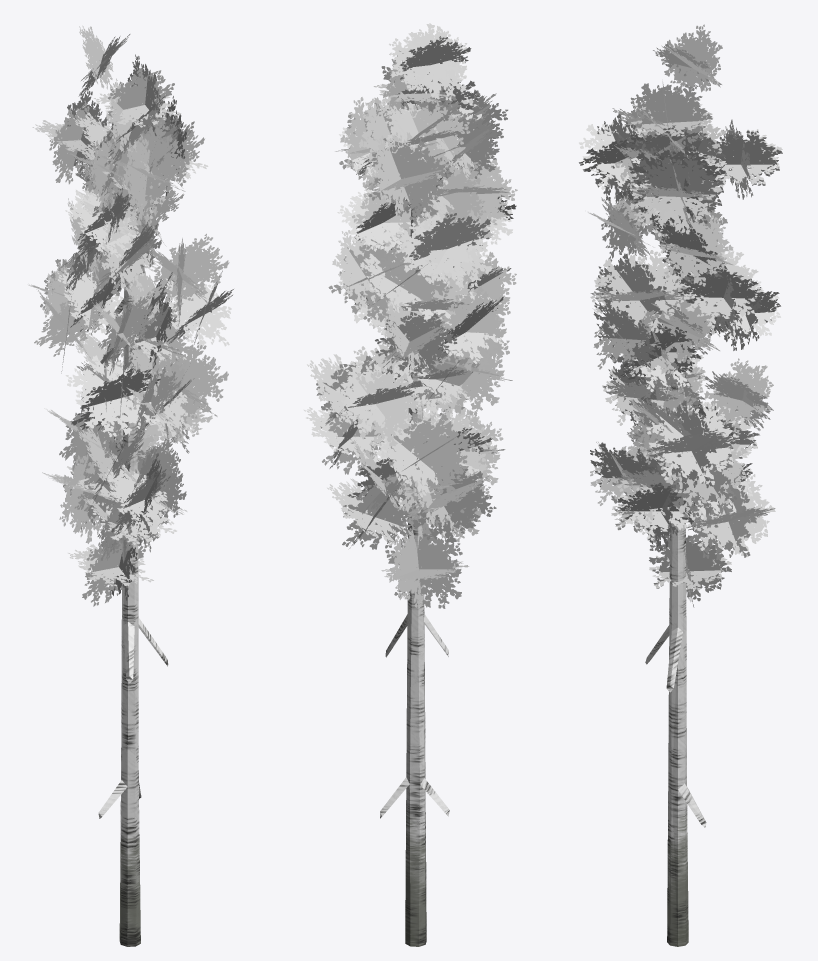
Rendered from BirchThin.fbx.
3 renders of one model, left to right at view 1: azimuth 30°, elevation 25°; view 2: azimuth 150°, elevation 25°; view 3: azimuth 270°, elevation 25°, orthographic. The views are drawn at different scales.
Parts seen in each view (by area): view 1: Birch_thin; view 2: Birch_thin; view 3: Birch_thin.
Boxes of the visible parts, box(x1,y1,x2,y2) form: Birch_thin: box(28, 25, 233, 946); Birch_thin: box(303, 23, 517, 946); Birch_thin: box(579, 24, 782, 946).
Bounding box in the file's own units: 427 × 1856 × 448.
